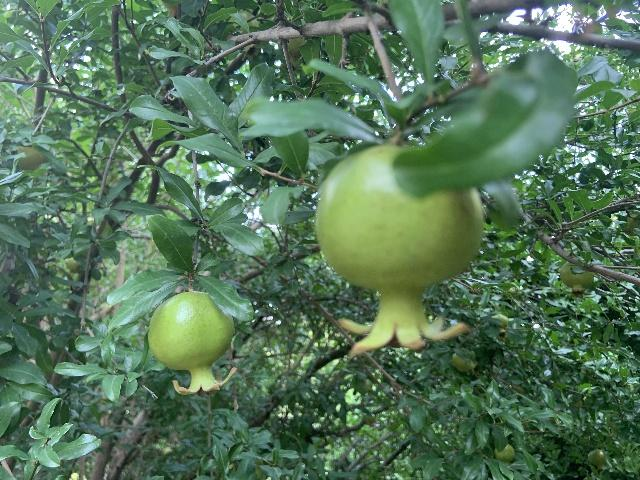mid-growth: (314, 145, 484, 354), (148, 290, 237, 395), (227, 11, 262, 63), (559, 261, 593, 300), (451, 351, 480, 377), (17, 146, 47, 170), (491, 314, 509, 341), (587, 449, 606, 472), (623, 212, 639, 237), (495, 443, 514, 464), (64, 258, 81, 277)
